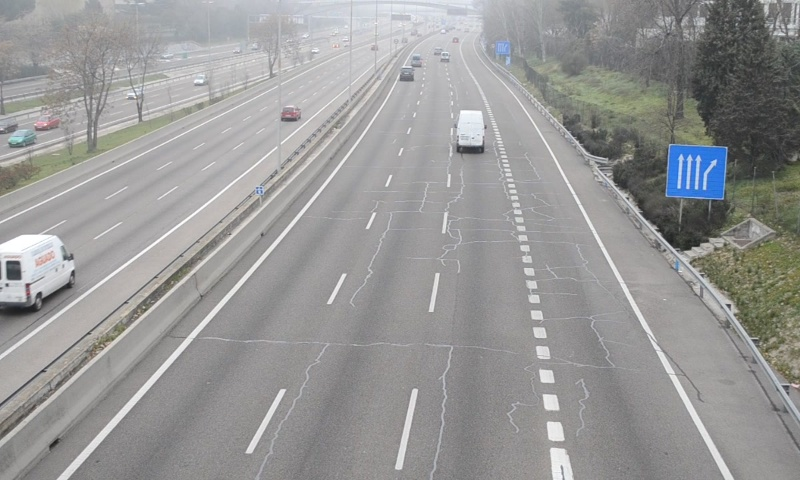car: (400, 67, 414, 82)
van: (456, 109, 486, 151)
